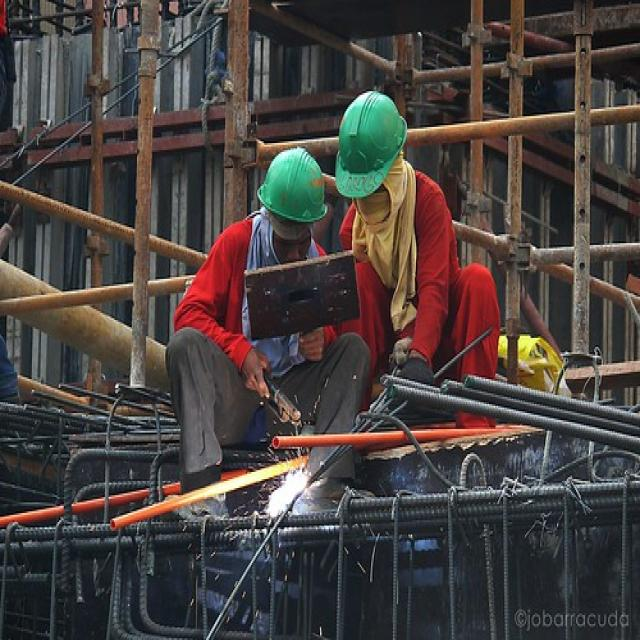Safety-Helmet: (334, 82, 410, 198), (256, 143, 328, 227)
